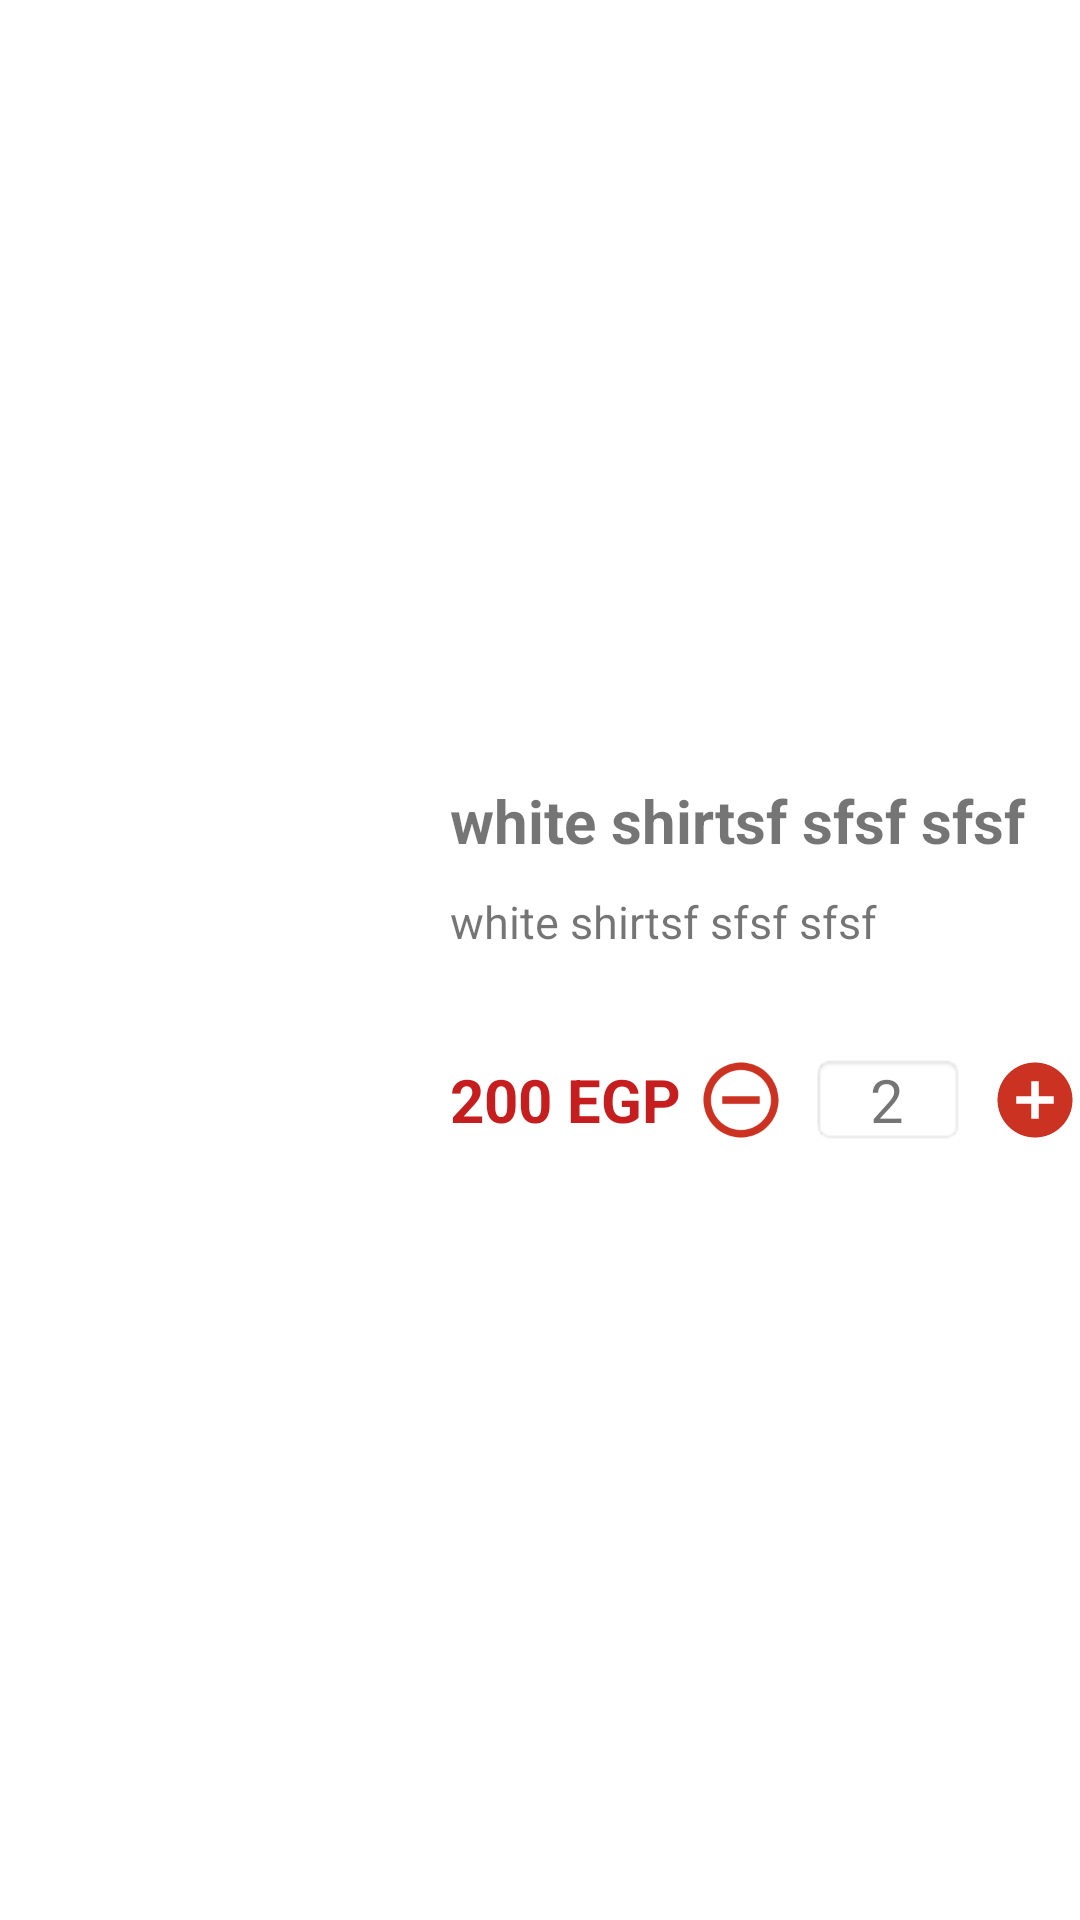

Screen size 1080*1920. Icon name, then its center in pixels as point (x, y):
add: point (1035, 1100)
remove: point (741, 1100)
